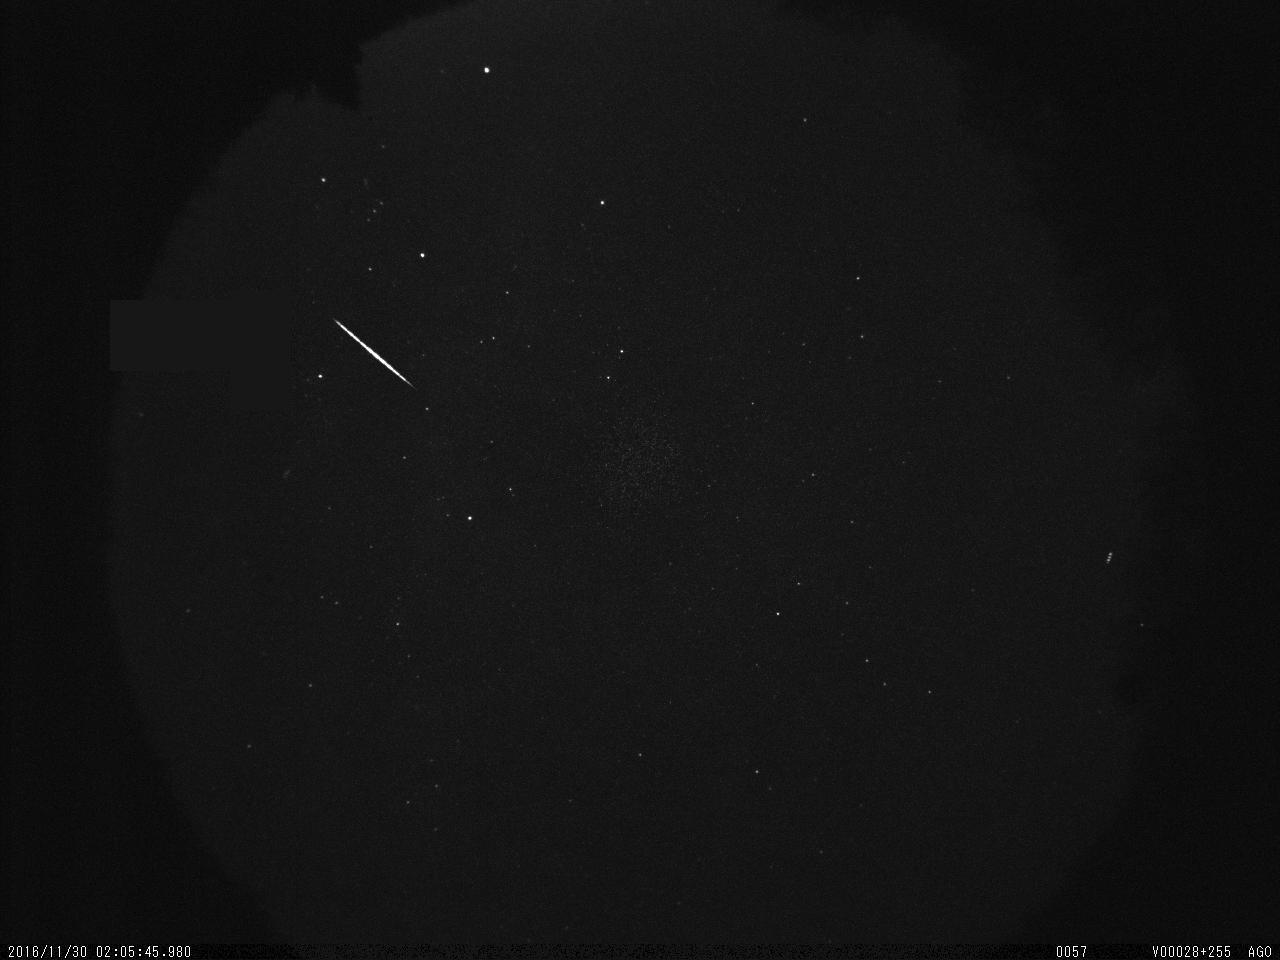meteor: (320, 303, 436, 413)
